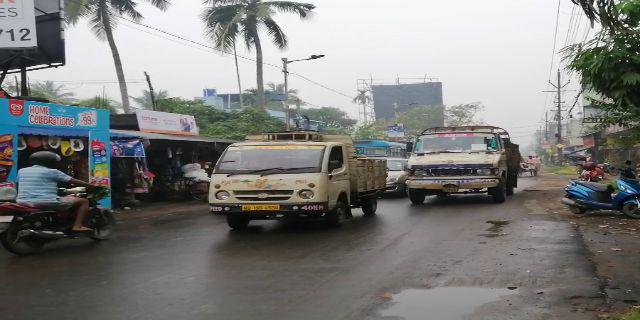Minitruck: (210, 135, 386, 239)
Motorbike: (7, 151, 111, 252), (561, 178, 635, 218)
Truck: (411, 127, 521, 205)
